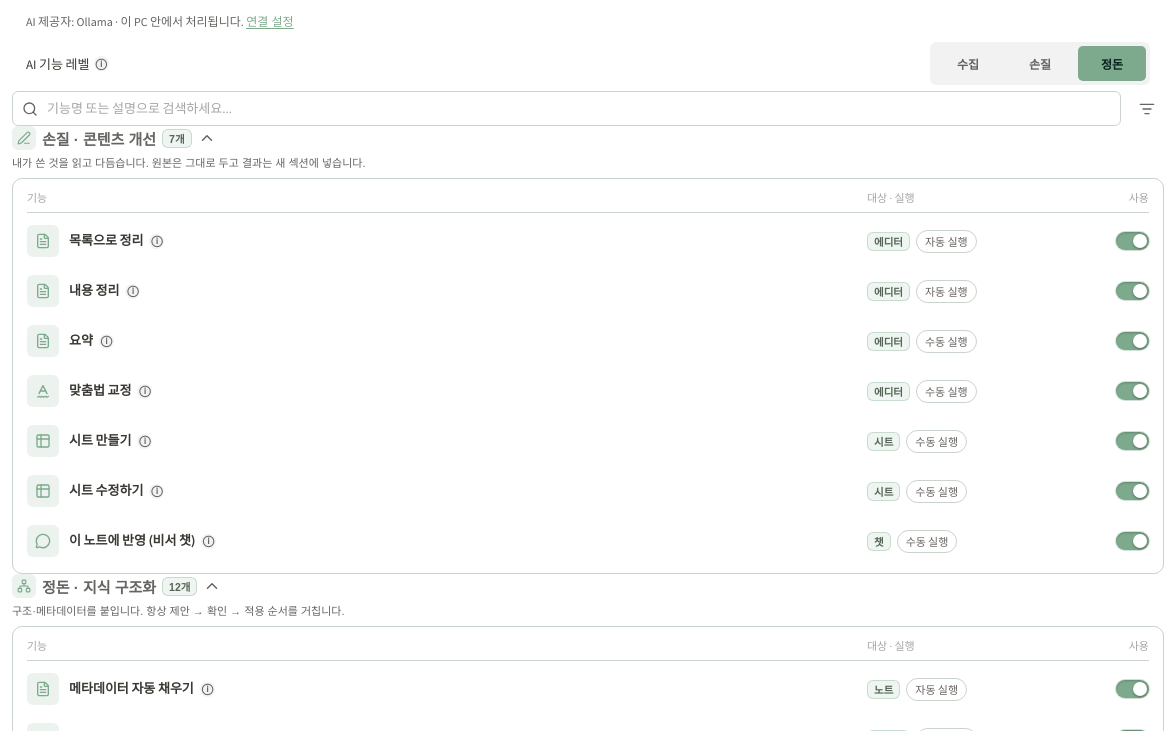
Test case: Challenger M4: AiCapabilityCatalog Empirical Adversarial Challenge › 2. Target Filter Toggling & Combination Matrix › 2.4 filters strictly by 'folder' target
Click the button with test id "ai-capability-filter-button": (1146, 108) [1129,91,1164,126]
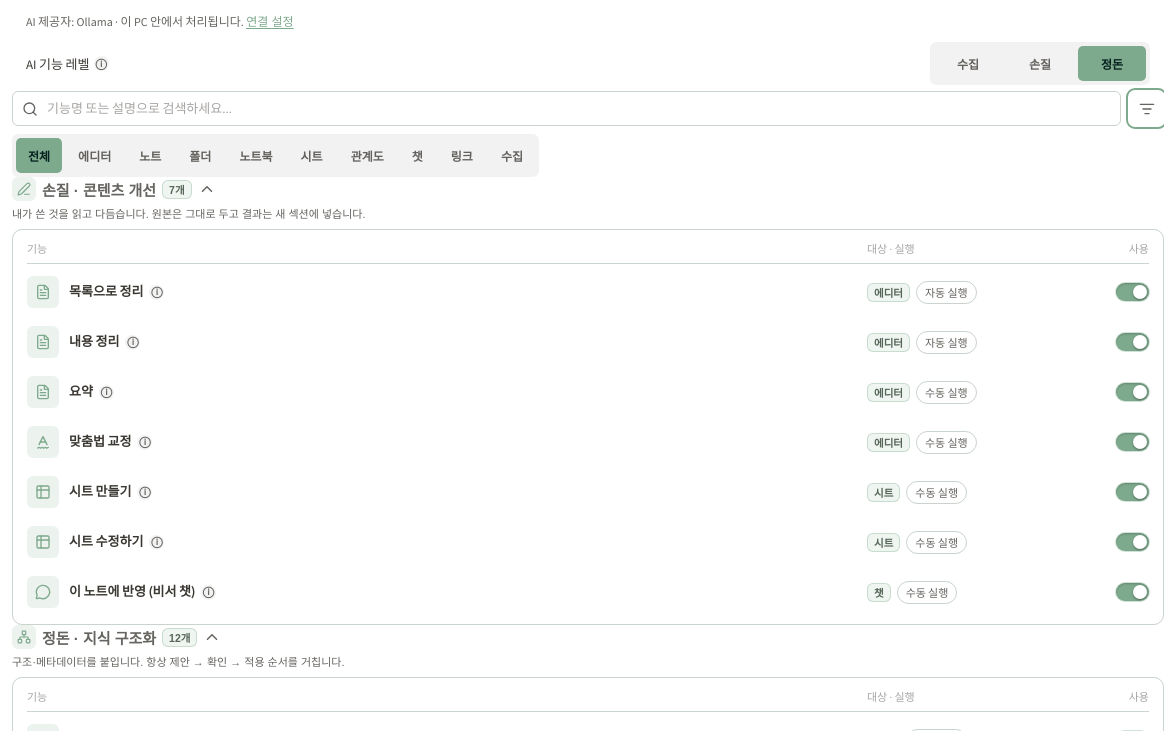
Click the radio button labelled "폴더": (200, 156) [177,138,223,173]
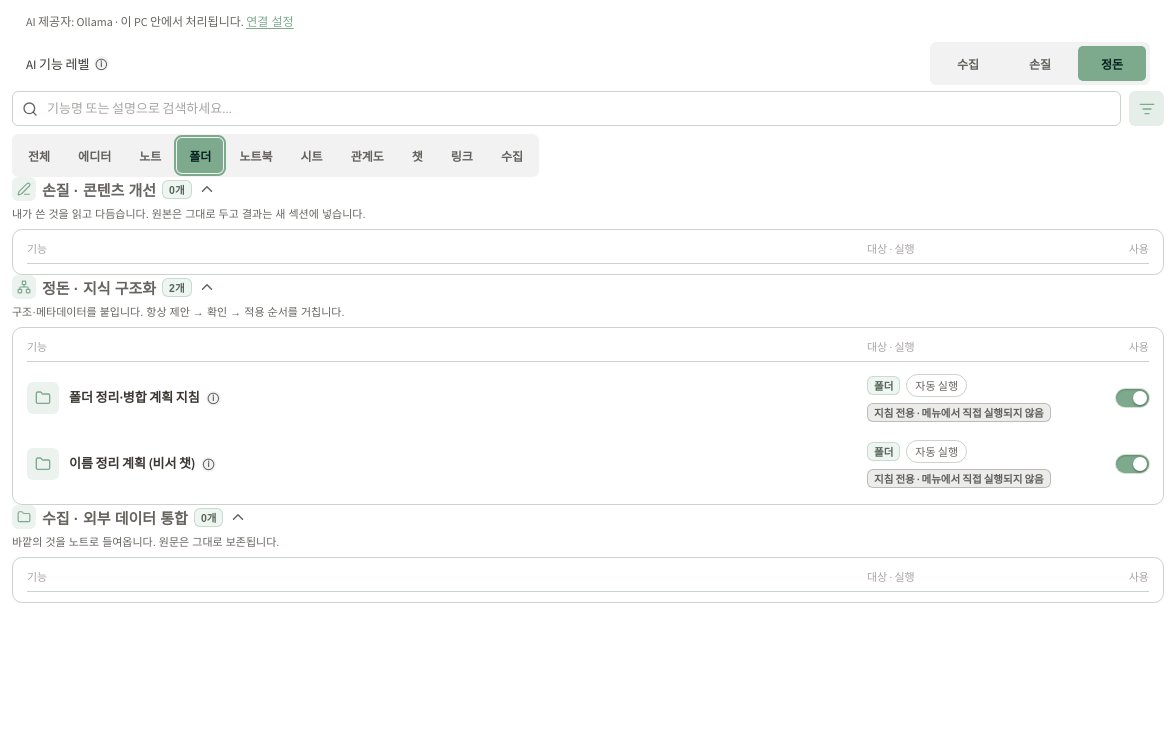
expect the element with test id "ai-capability-row-agent_folder" is shown: met, box [27,368,1149,428]
expect the element with test id "ai-capability-row-list" is gone: met
